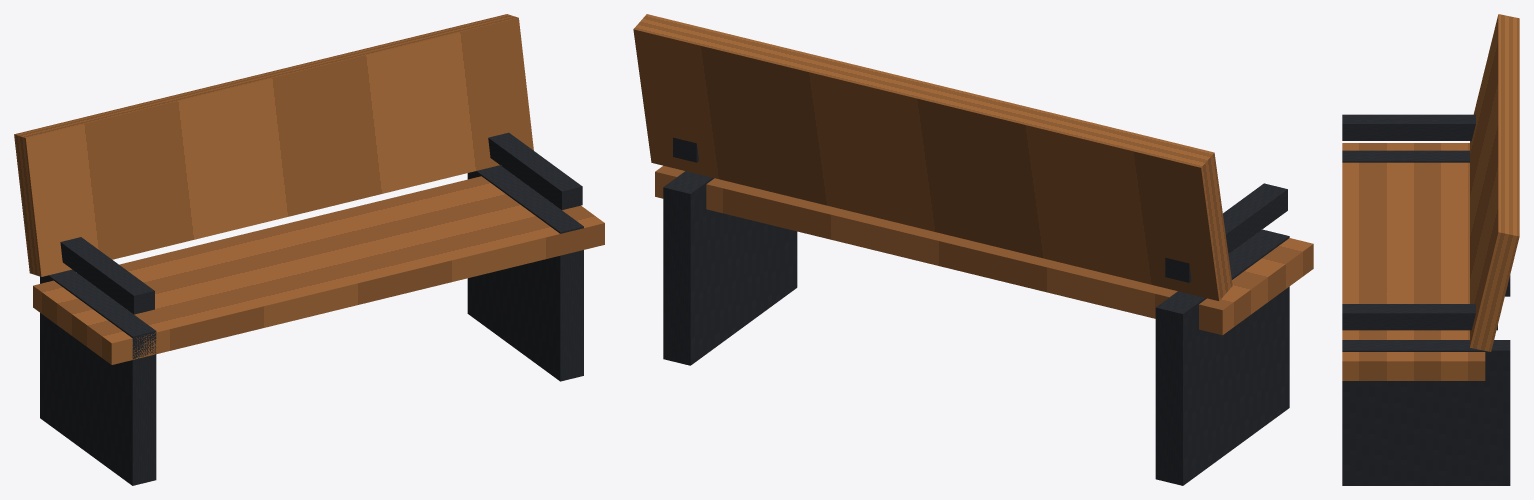
The model's file is park-bench-lod0.glb.
3 views of the same model, side by side, from view 1: azimuth 30°, elevation 25°; view 2: azimuth 150°, elevation 25°; view 3: azimuth 270°, elevation 25° (orthographic). The views are drawn at different scales.
Parts seen in each view (by area): view 1: park-bench-lod0; view 2: park-bench-lod0; view 3: park-bench-lod0.
Boxes of the visible parts, x1=… form: park-bench-lod0: x1=14, y1=14, x2=604, y2=485; park-bench-lod0: x1=633, y1=14, x2=1313, y2=485; park-bench-lod0: x1=1342, y1=14, x2=1519, y2=485.
Bounding box in the file's own units: 1.66 × 0.9326 × 0.57.
1 material, 1 textured.
